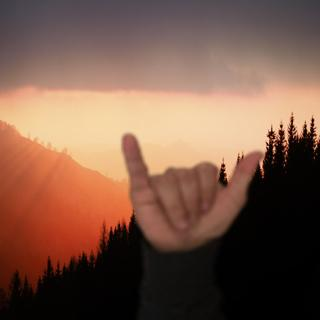HAVE: (108, 125, 273, 253)
